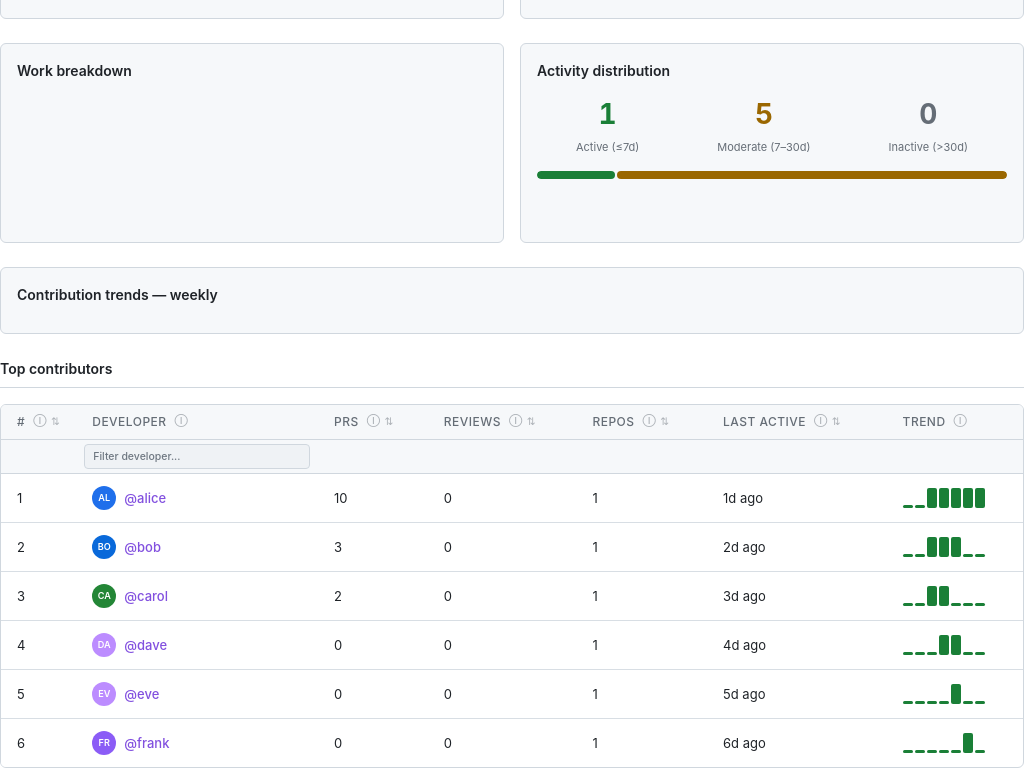
DevActivityPage › developer detail panel opens on table row click
This screenshot has width=1024, height=768.
(page scrolled)
Expected: the text "Top contributors" is shown, [0, 358, 1023, 388]
Expected: the text "@alice" is shown, [124, 488, 166, 508]
Click the text "1 AL @alice 10 0 1 1d ago".
click(512, 498)  # box [1, 474, 1023, 523]
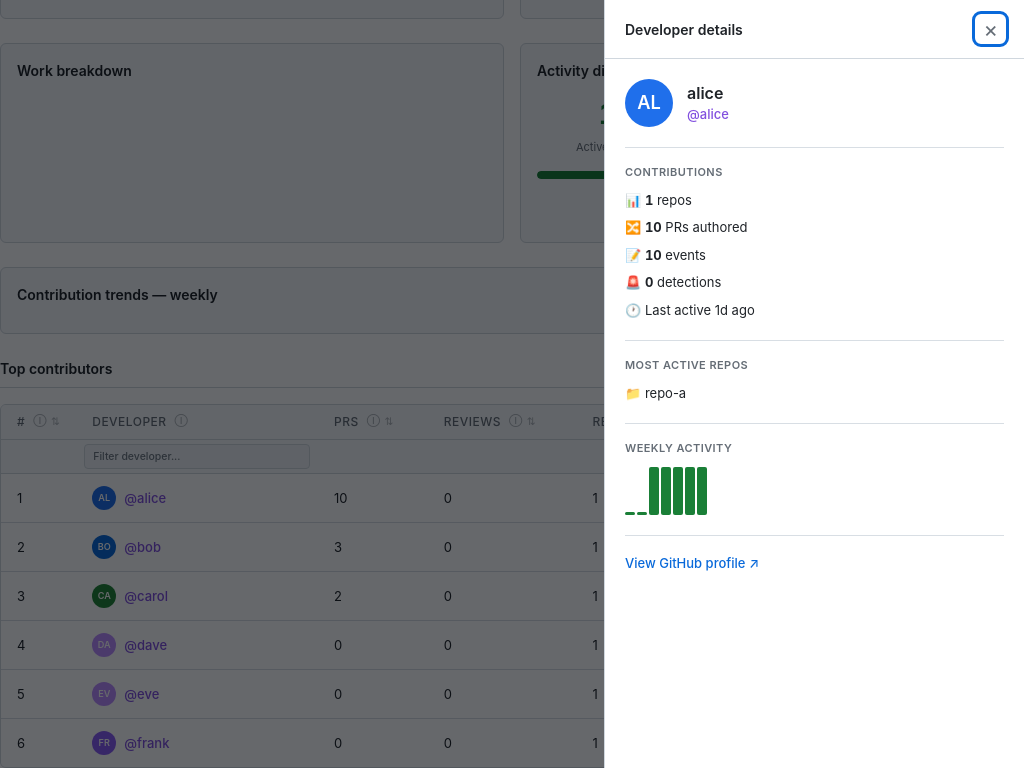
Expected: the text "@alice" is shown, [687, 106, 729, 122]
